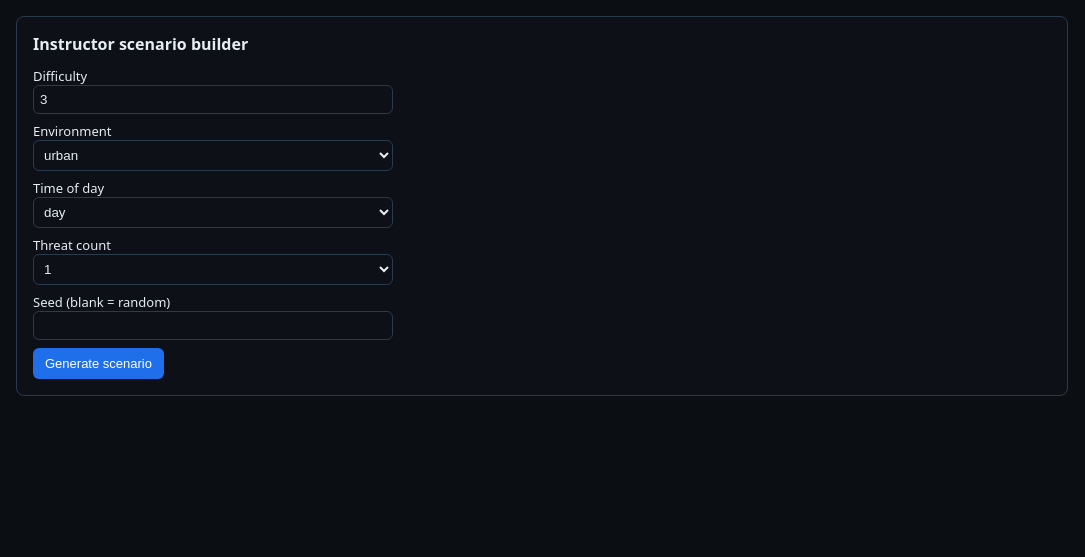
Test case: InstructorView › generates a scenario and links to a reproducible simulator run
Replace the text in the number field labelled "Difficulty" with "7": (213, 100) [33,85,393,114]
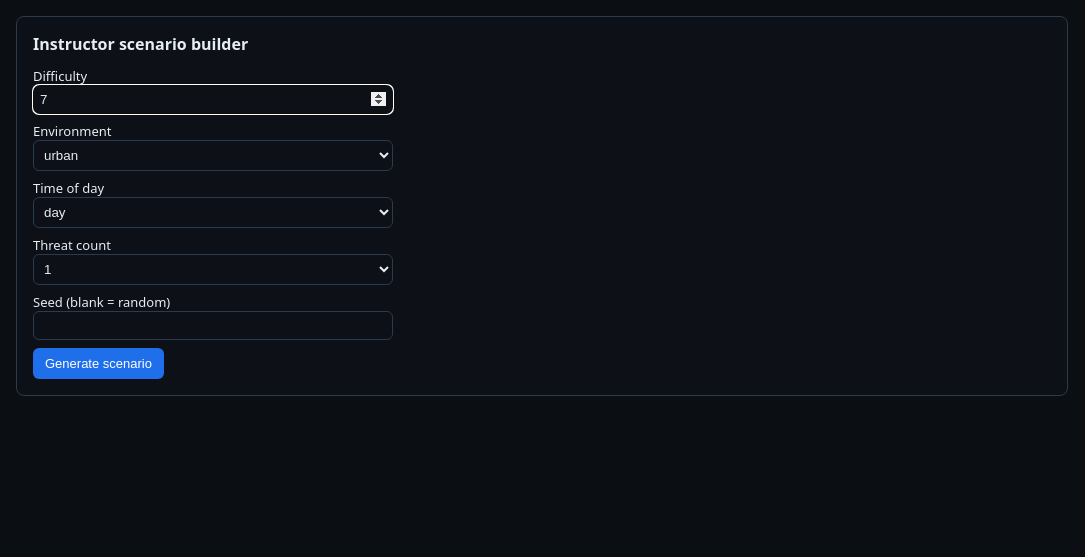
Click the button "Generate scenario": click(98, 364) [33,348,164,379]
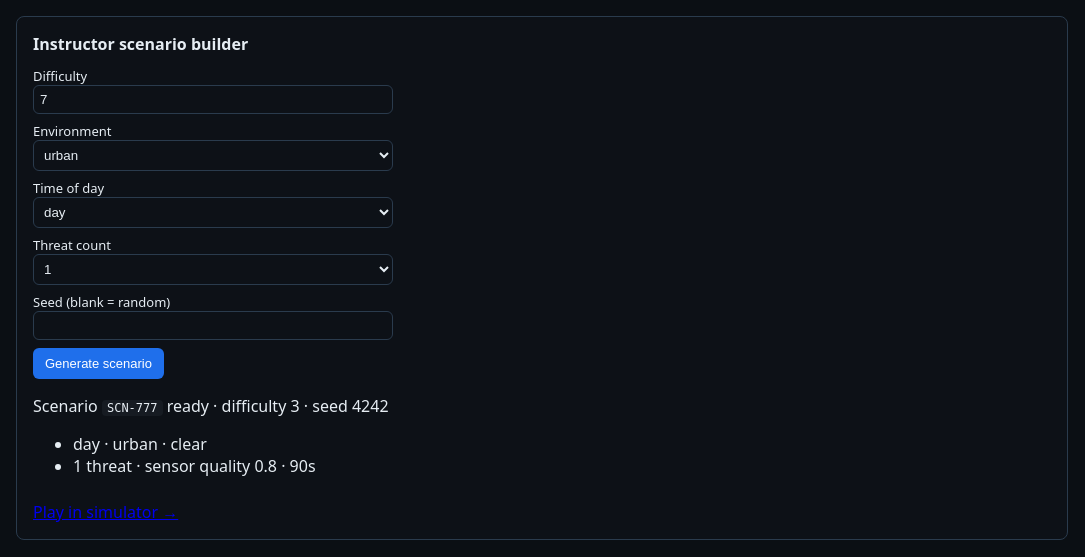
Expected: the text "SCN-777" is shown, [102,400,162,416]
